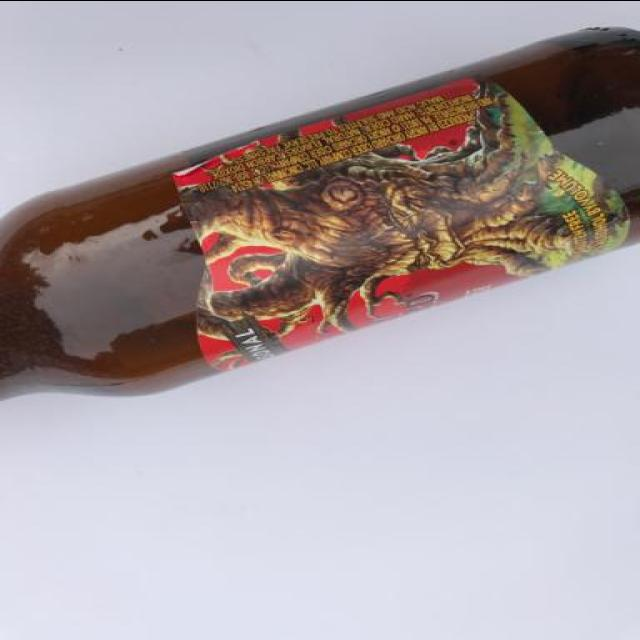litter: (4, 25, 638, 404)
